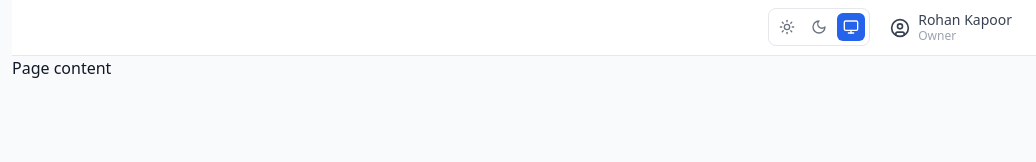
Test: Header account menu › opens and closes with the account button
Click the button with aria-label "Account menu" at coordinates (951, 28), box [882,5,1020,50]
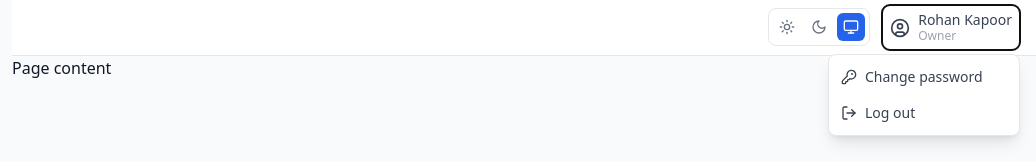
Expected: the button "Log out" is shown, [829,95,1019,131]
Click the button with aria-label "Account menu" at coordinates (951, 28), box [882,5,1020,50]
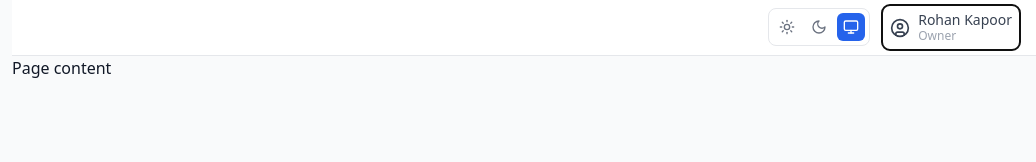
Expected: the button "Log out" is gone
